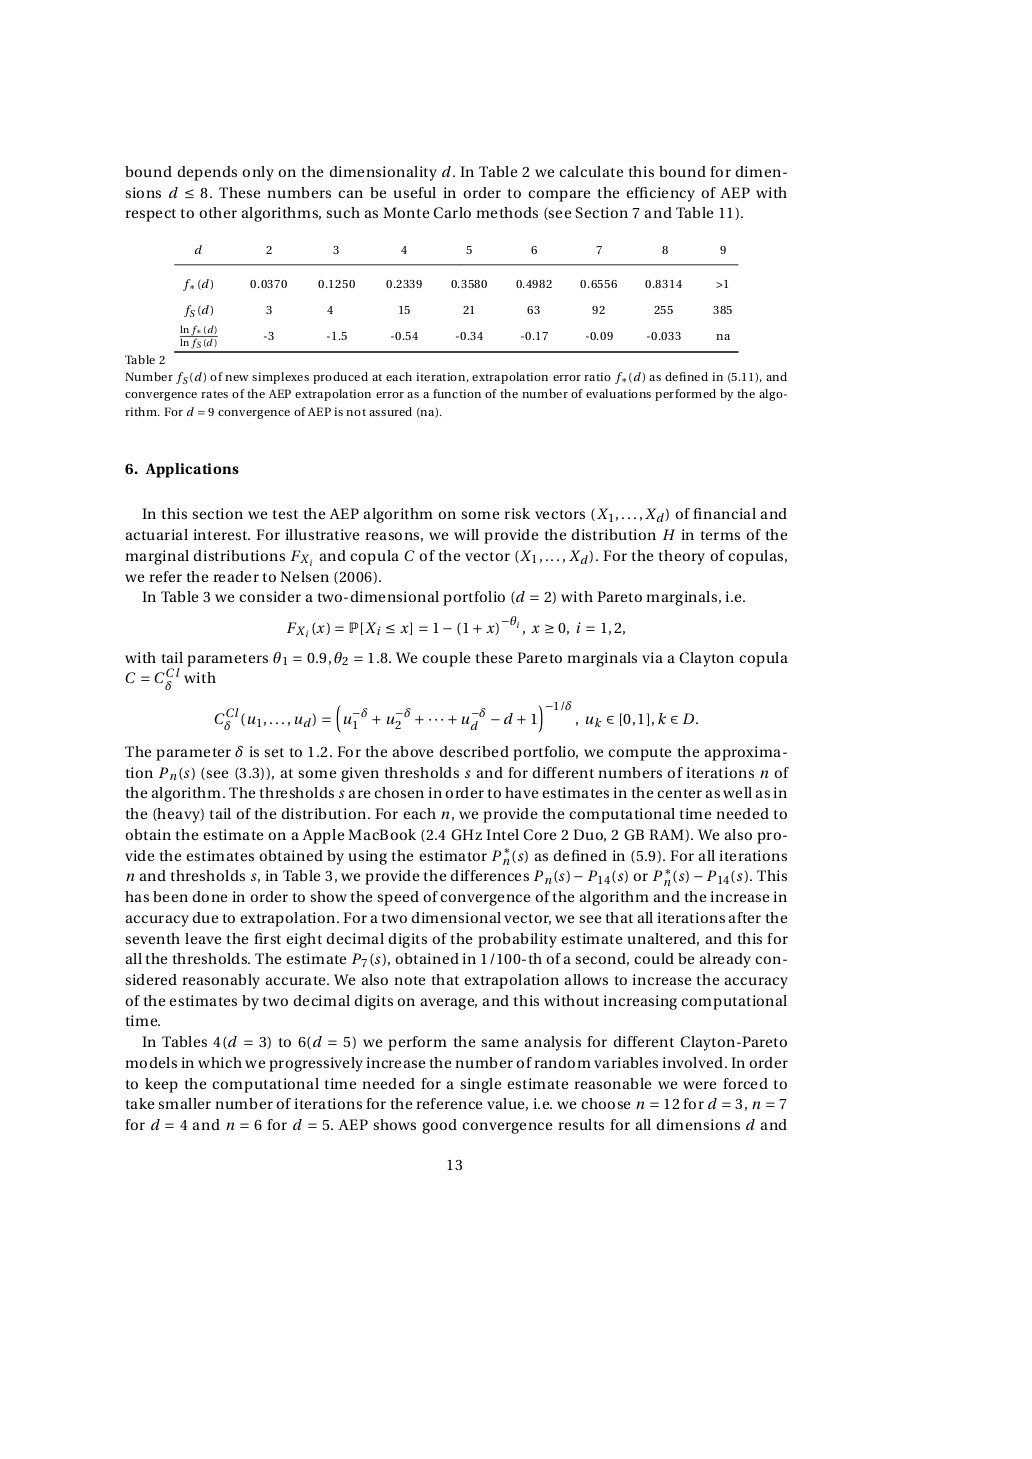Table: (174, 244, 738, 352)
formula: (214, 700, 697, 733), (286, 615, 624, 637)
